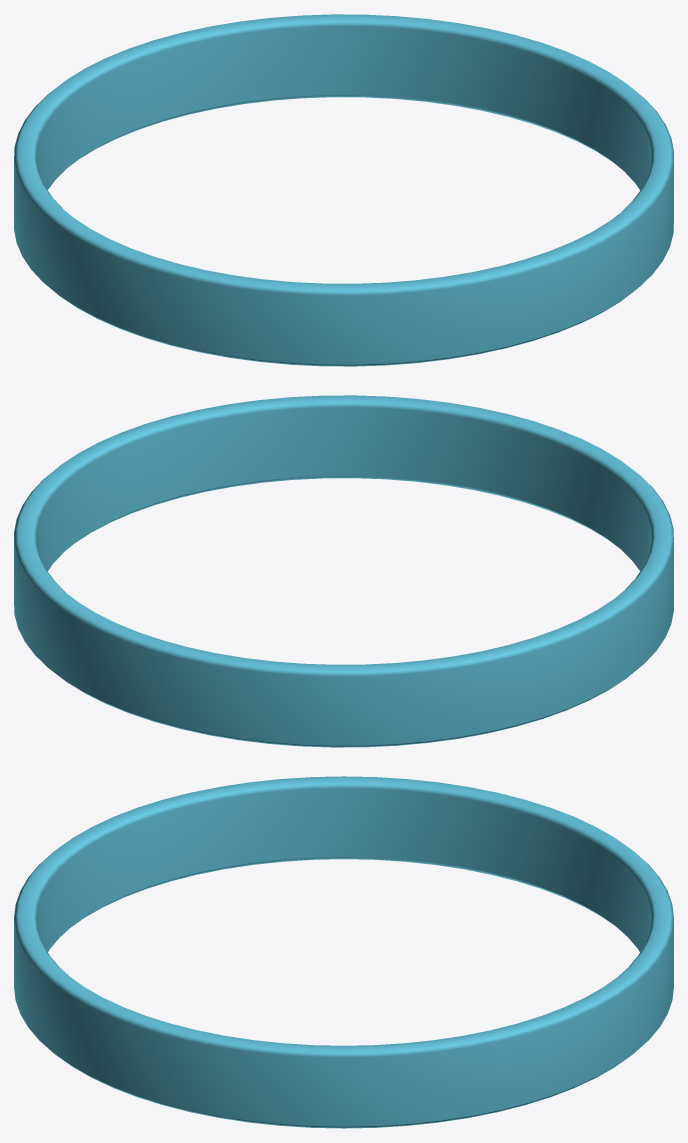
The picture shows the model from 3 angles, top to bottom: view 1: azimuth 30°, elevation 25°; view 2: azimuth 150°, elevation 25°; view 3: azimuth 270°, elevation 25°; orthographic projection.
Parts seen in each view (by area): view 1: seal_body; view 2: seal_body; view 3: seal_body.
Part boxes in pixels (x1=…): seal_body: x1=14, y1=14, x2=673, y2=366; seal_body: x1=14, y1=395, x2=673, y2=747; seal_body: x1=14, y1=776, x2=673, y2=1128.
Bounding box in the file's own units: 0.1398 × 0.018 × 0.1398.
